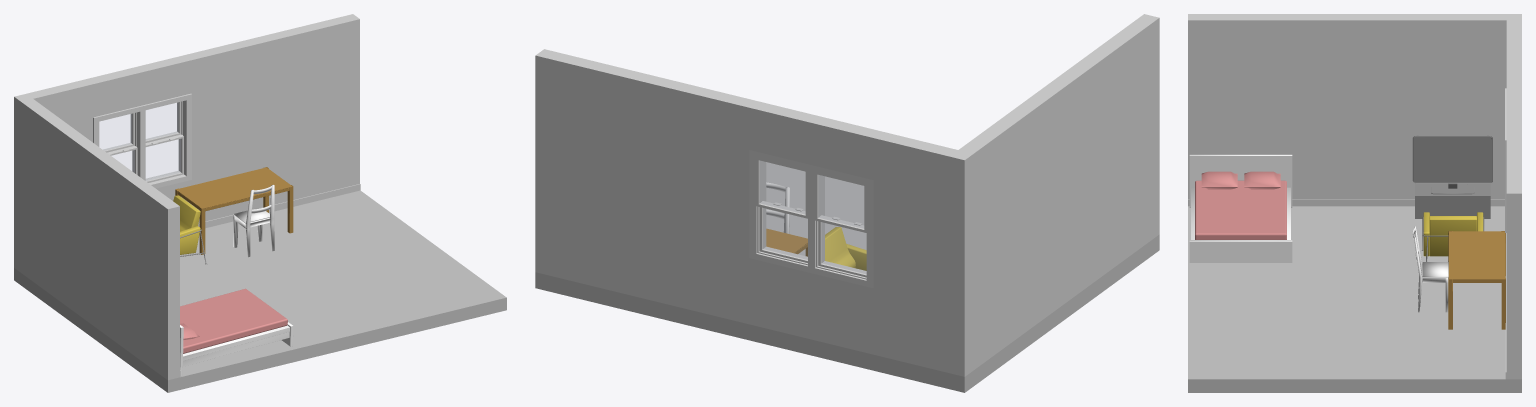
The model's file is L14_W18_furniture3_circulation3.glb.
3 views of the same model, side by side, from view 1: azimuth 30°, elevation 25°; view 2: azimuth 150°, elevation 25°; view 3: azimuth 270°, elevation 25° (orthographic). The views are drawn at different scales.
Bounding box in the file's own units: 224 × 116 × 176.
